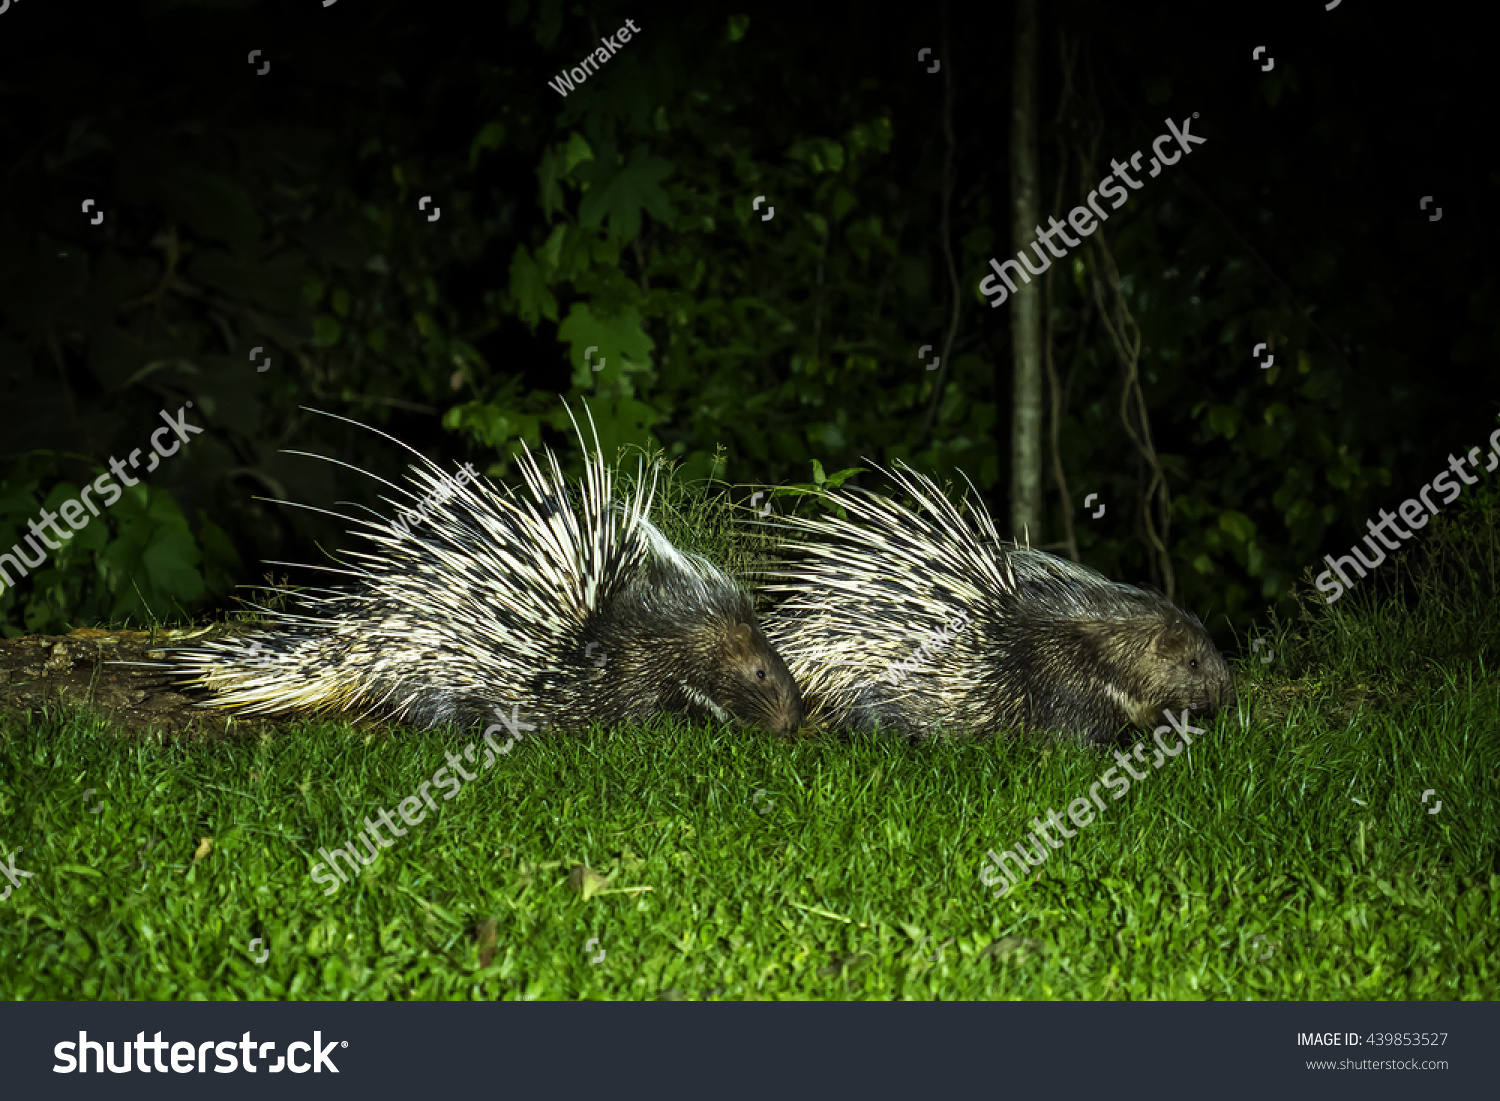porcupine: (157, 389, 815, 777), (740, 460, 1276, 750)
